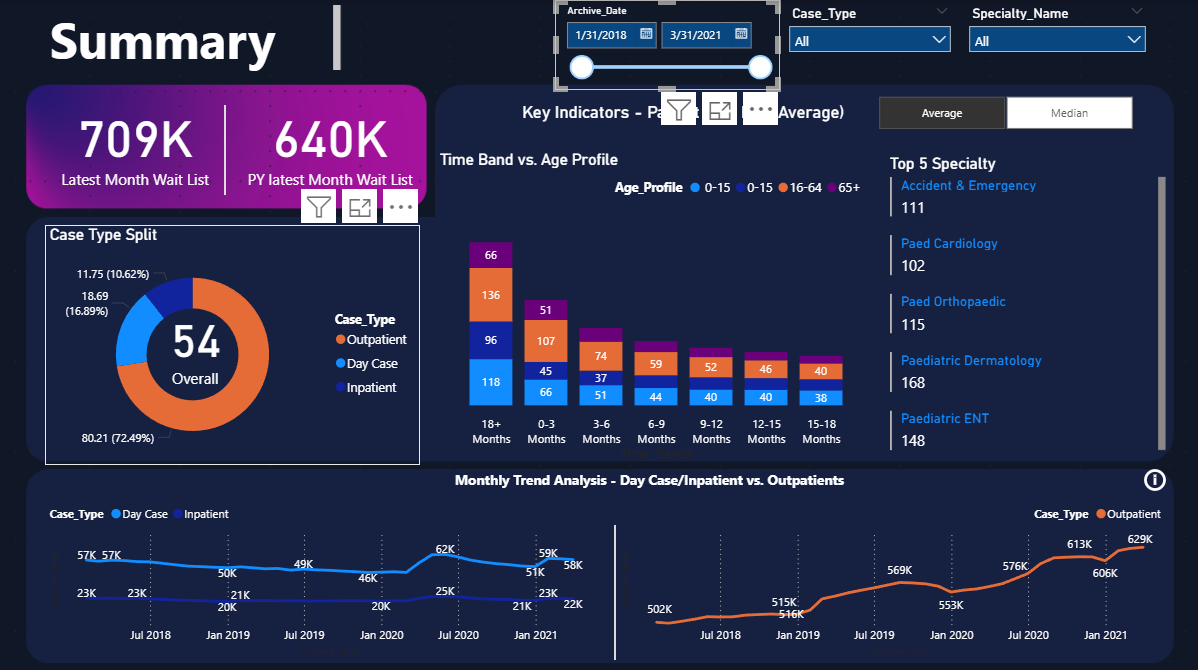

What the dashboard file says about the page in this screenshot:
{"tool":"powerbi","page":{"name":"Summary","canvas":[1280,720],"ordinal":0},"visuals":[{"type":"card","fields":{"Values":["All Data.Latest Month Wait List"]},"box":[48,96,192,112],"z":0},{"type":"card","fields":{"Values":["All Data.PY latest Month Wait List"]},"box":[256,96,192,112],"z":1000},{"type":"slicer","fields":{"Values":["Calculation Method.Calc Method"]},"box":[912,96,320,48],"z":2000},{"type":"donutChart","title":"Case Type Split","fields":{"Category":["All Data.Case_Type"],"Y":["All Data.Avg/Med Wait List"]},"box":[48,240,400,256],"z":3000},{"type":"columnChart","title":"Time Band vs. Age Profile","fields":{"Y":["All Data.Avg/Med Wait List"],"Category":["All Data.Time_Bands"],"Series":["All Data.Age_Profile"]},"box":[464,160,464,336],"z":4000},{"type":"multiRowCard","title":"Top 5 Specialty","fields":{"Values":["All Data.Specialty_Name","All Data.Avg/Med Wait List"]},"box":[944,144,304,368],"z":5000},{"type":"card","fields":{"Values":["All Data.NoDatatype"]},"box":[96,544,512,128],"z":6000},{"type":"lineChart","fields":{"Y":["Sum(All Data.Total)"],"Category":["All Data.Archive_Date"],"Series":["All Data.Case_Type"]},"box":[48,528,592,176],"z":7000},{"type":"card","fields":{"Values":["All Data.NoDataRight"]},"box":[704,560,512,128],"z":8000},{"type":"lineChart","fields":{"Y":["Sum(All Data.Total)"],"Category":["All Data.Archive_Date"],"Series":["All Data.Case_Type"]},"box":[656,528,592,176],"z":9000},{"type":"slicer","fields":{"Values":["All Data.Archive_Date"]},"box":[592,0,240,96],"z":10000},{"type":"slicer","fields":{"Values":["All Data.Case_Type"]},"box":[832,0,192,96],"z":11000},{"type":"slicer","fields":{"Values":["All Data.Specialty_Name"]},"box":[1024,0,208,96],"z":12000},{"type":"textbox","box":[48,0,320,80],"z":13000},{"type":"card","fields":{"Values":["All Data.Avg/Med Wait List"]},"box":[160,304,96,128],"z":14000},{"type":"shape","box":[144,112,192,96],"z":15000},{"type":"textbox","box":[480,496,432,32],"z":16000},{"type":"shape","box":[560,560,192,144],"z":17000},{"type":"card","fields":{"Values":["All Data.Dynamic Title"]},"box":[448,96,560,48],"z":18000},{"type":"actionButton","box":[1216,496,48,32],"z":19000}]}

Visuals, with their boxes in screenshot pixels (x1, y1, x2, y2), scaled from the page's 1280x720 canvas onto the 1198x670 screenshot:
card - All Data.Latest Month Wait List: 45, 89, 225, 194
card - All Data.PY latest Month Wait List: 240, 89, 419, 194
slicer - Calculation Method.Calc Method: 854, 89, 1153, 134
"Case Type Split" donutChart: 45, 223, 419, 462
"Time Band vs. Age Profile" columnChart: 434, 149, 869, 462
"Top 5 Specialty" multiRowCard: 884, 134, 1168, 476
card - All Data.NoDatatype: 90, 506, 569, 625
lineChart - Sum(All Data.Total) x All Data.Archive_Date: 45, 491, 599, 655
card - All Data.NoDataRight: 659, 521, 1138, 640
lineChart - Sum(All Data.Total) x All Data.Archive_Date: 614, 491, 1168, 655
slicer - All Data.Archive_Date: 554, 0, 779, 89
slicer - All Data.Case_Type: 779, 0, 958, 89
slicer - All Data.Specialty_Name: 958, 0, 1153, 89
textbox: 45, 0, 344, 74
card - All Data.Avg/Med Wait List: 150, 283, 240, 402
shape: 135, 104, 314, 194
textbox: 449, 462, 854, 491
shape: 524, 521, 704, 655
card - All Data.Dynamic Title: 419, 89, 943, 134
actionButton: 1138, 462, 1183, 491
